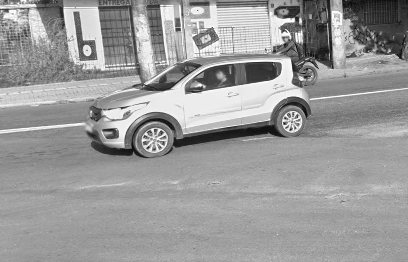car: (85, 52, 317, 164)
